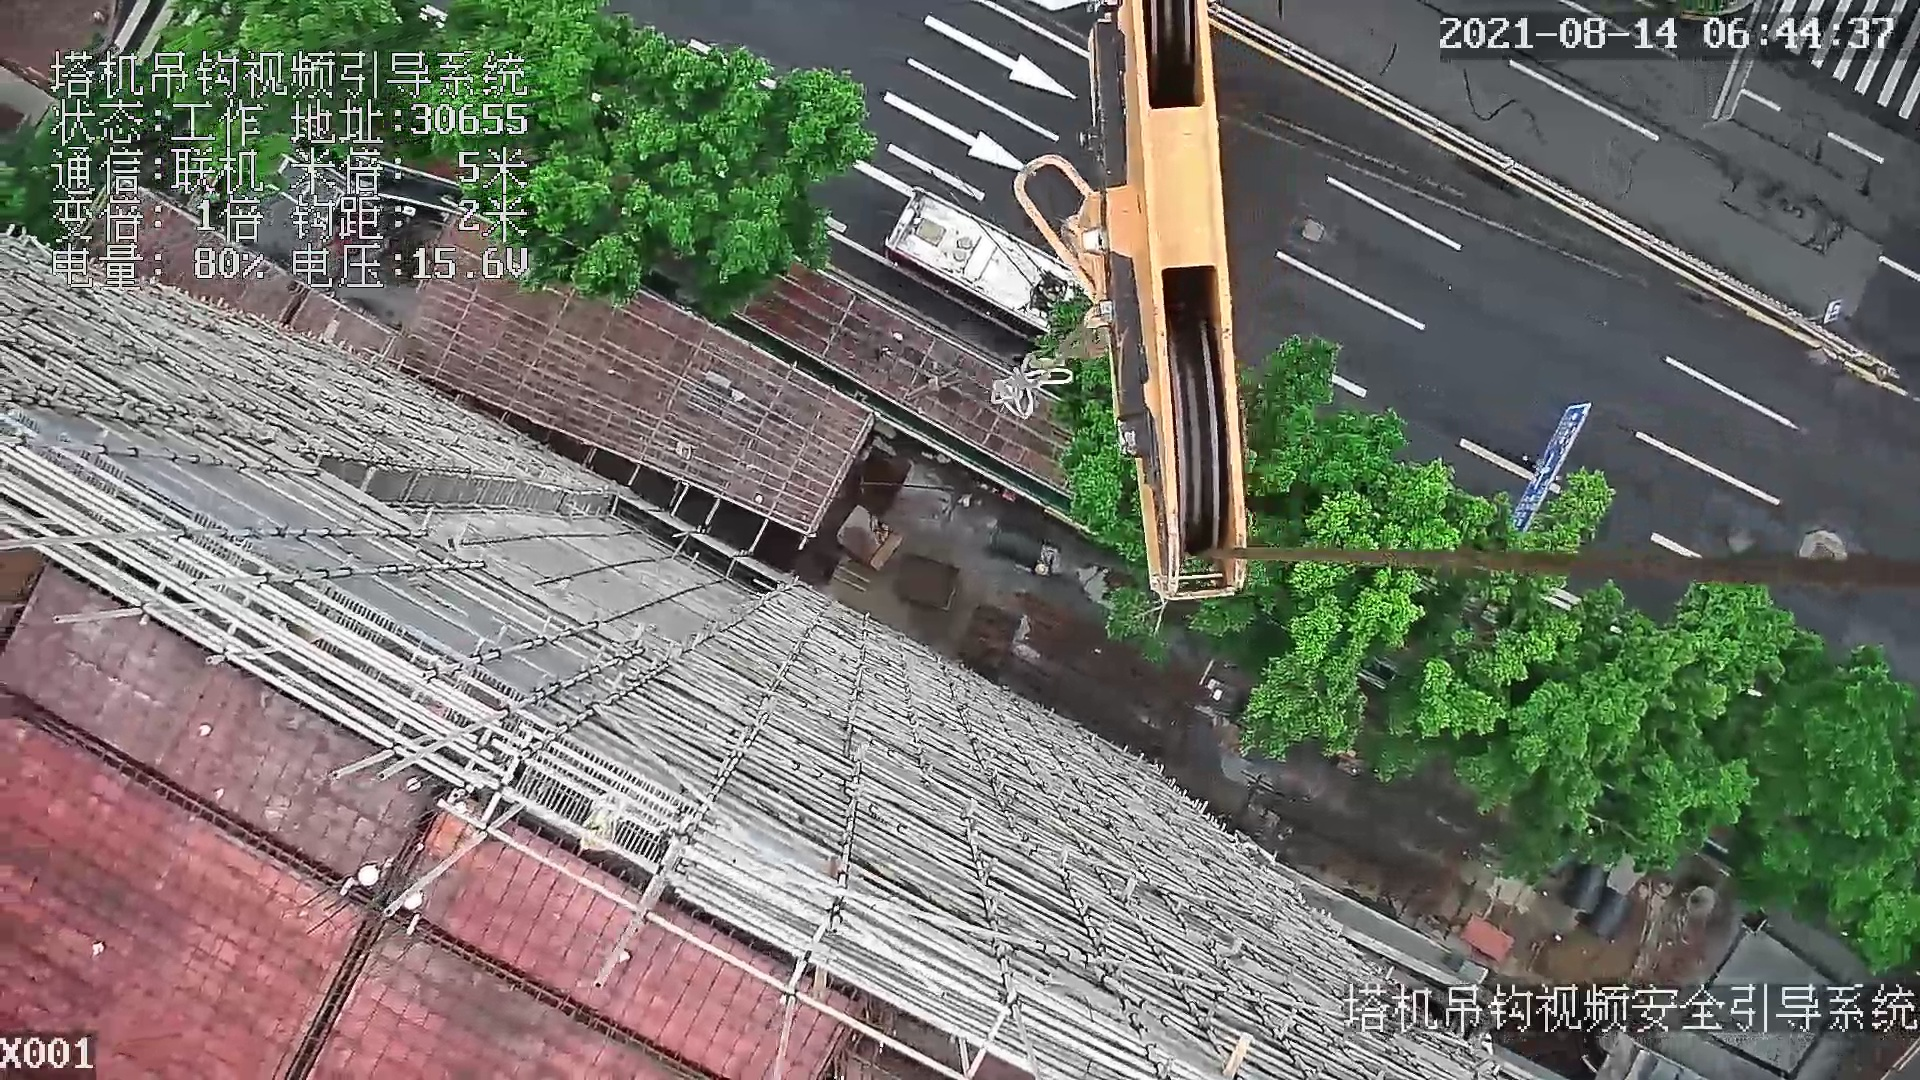hook: (992, 7, 1255, 600)
